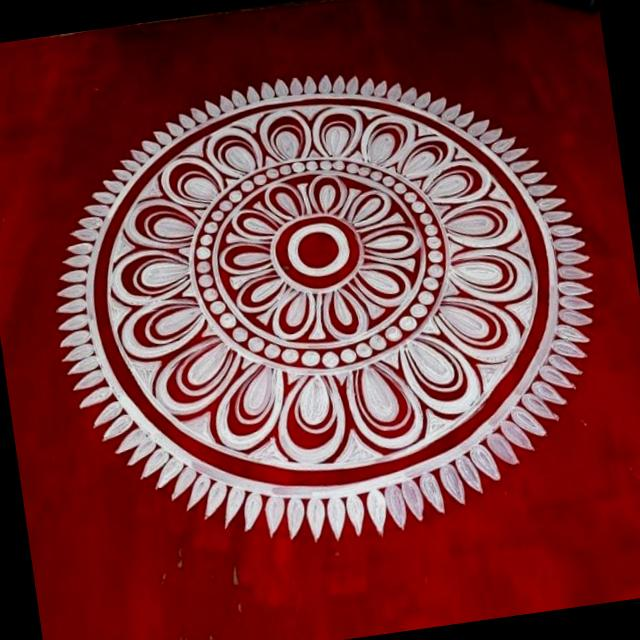rangoli: (32, 36, 628, 575)
